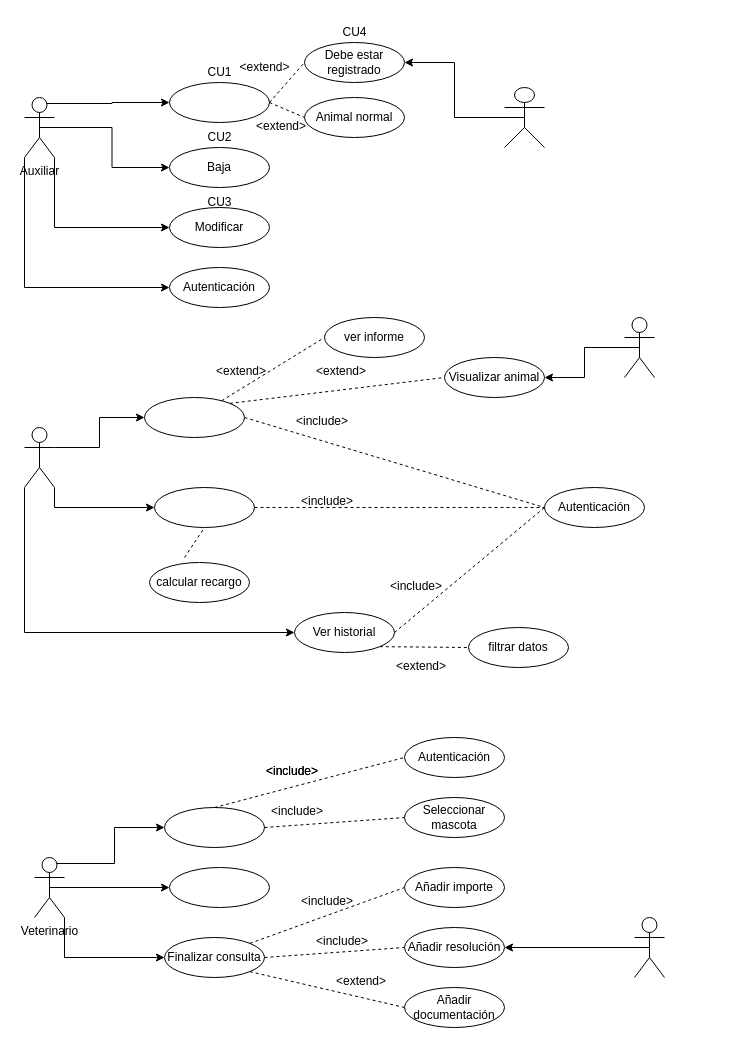
This 737x1045 diagram has some shape labels left out. Each missing label, with the box of its shape:
Alta: (168, 82, 270, 122)
Cliente: (24, 426, 54, 488)
Comenzar consulta: (164, 806, 264, 848)
Cámaras: (624, 316, 654, 378)
Gestor de los documentos: (634, 916, 664, 978)
Pagar: (154, 486, 254, 528)
REIAC: (504, 86, 544, 148)
ver estado animal: (144, 396, 244, 438)
Ver estado de la mascota: (168, 866, 270, 908)
